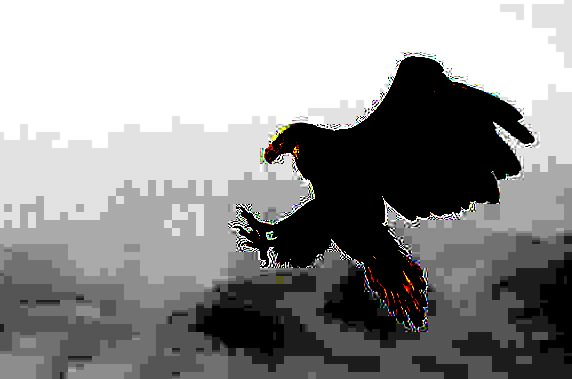Bird: (228, 51, 539, 339)
